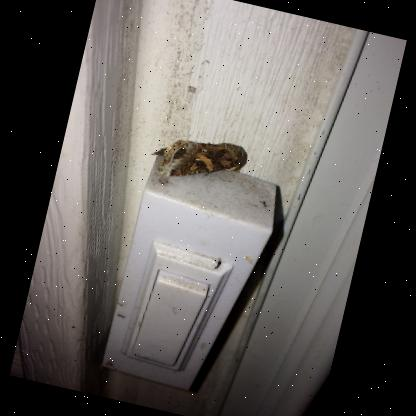Fall Armyworm Moth: (144, 125, 253, 196)
